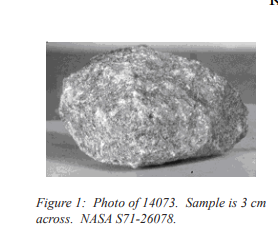Basalt: (45, 42, 260, 166), (45, 42, 254, 167)
